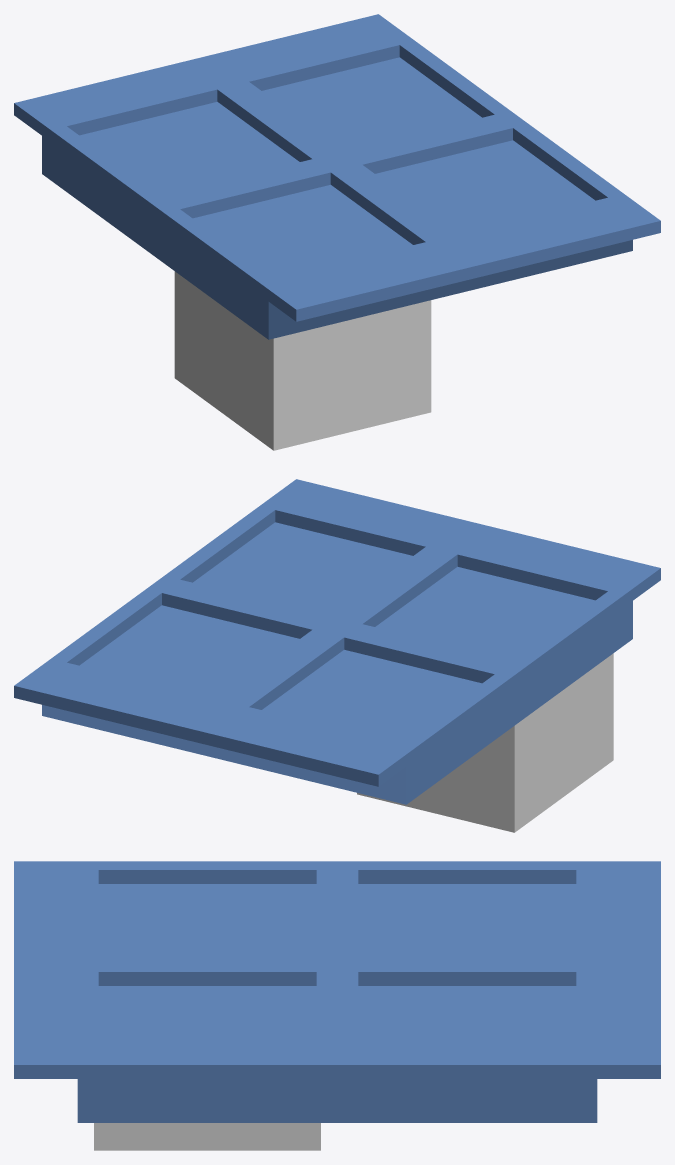
File: cabin.glb
The picture shows the model from 3 angles, top to bottom: view 1: azimuth 30°, elevation 25°; view 2: azimuth 150°, elevation 25°; view 3: azimuth 270°, elevation 25°; orthographic projection. The views are drawn at different scales.
Parts seen in each view (by area): view 1: cabin; view 2: cabin; view 3: cabin.
Boxes of the visible parts, <box> form: cabin: <box>14,14,660,450</box>; cabin: <box>14,479,660,832</box>; cabin: <box>14,861,660,1150</box>.
Bounding box in the file's own units: 6.91 × 3.08 × 9.27.
